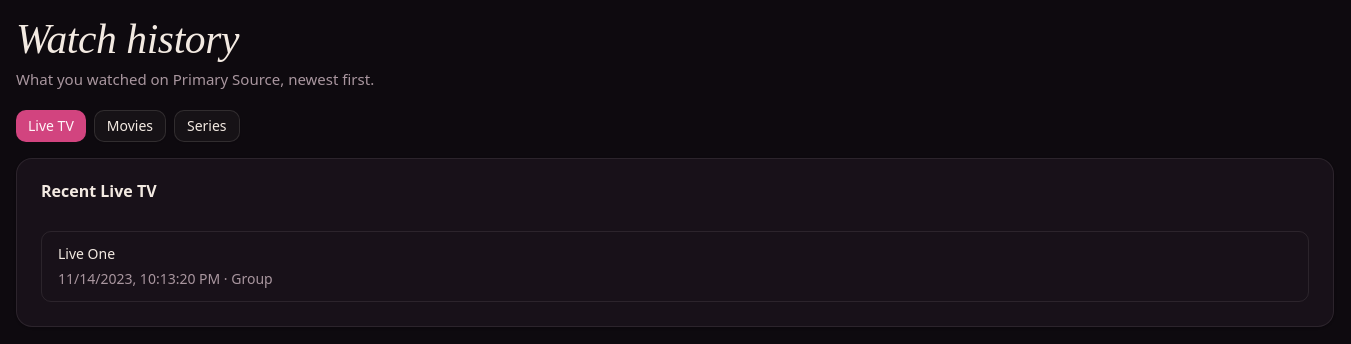
Test: RecentsPage › loads recents and filters by selected source and media kind
Expected: the heading "Watch history" is shown, [16,16,239,62]
Expected: the text "What you watched on Primary Source, newest first." is shown, [16,69,374,89]
Click the button "Movies".
click(130, 126)  # box [94,110,166,142]
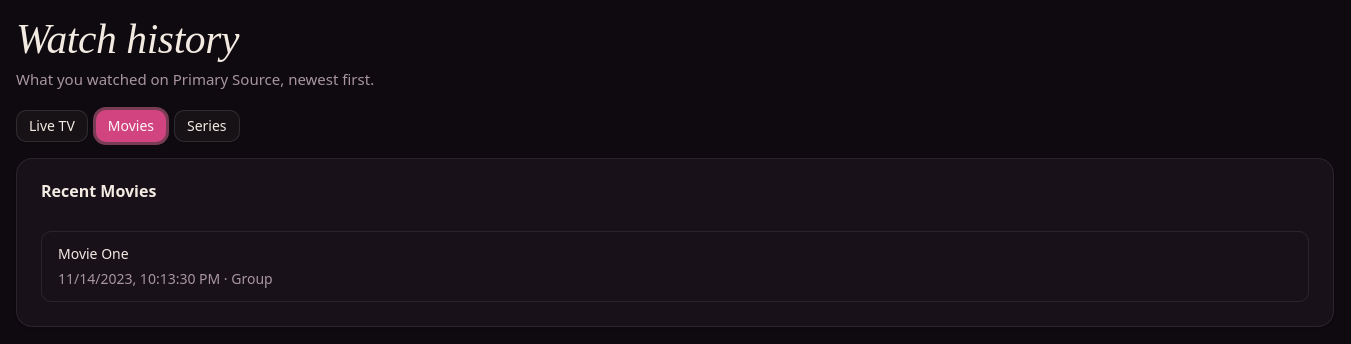
Expected: the text "Movie One" is shown, [58,244,129,264]
Expected: the text "Live One" is gone
